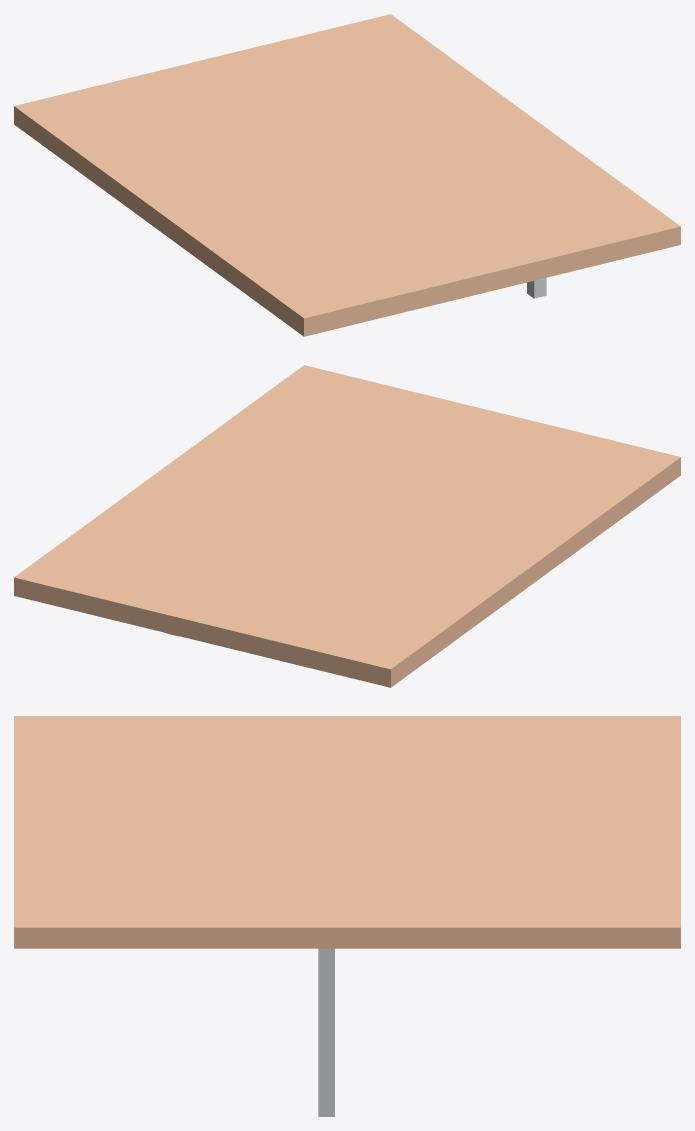
Rendered from desk-row-d6.glb.
3 views of the same model, one above another, from view 1: azimuth 30°, elevation 25°; view 2: azimuth 150°, elevation 25°; view 3: azimuth 270°, elevation 25° (orthographic). The views are drawn at different scales.
Parts seen in each view (by area): view 1: desktop; view 2: desktop; view 3: desktop, shared-corner-leg.
Part boxes in pixels (x1=…): desktop: x1=14, y1=14, x2=680, y2=336; desktop: x1=14, y1=365, x2=680, y2=687; desktop: x1=14, y1=716, x2=680, y2=948; shared-corner-leg: x1=318, y1=948, x2=334, y2=1116.
Bounding box in the file's own units: 3 × 1.26 × 4.
Materials: 1 (1 with a texture image).
